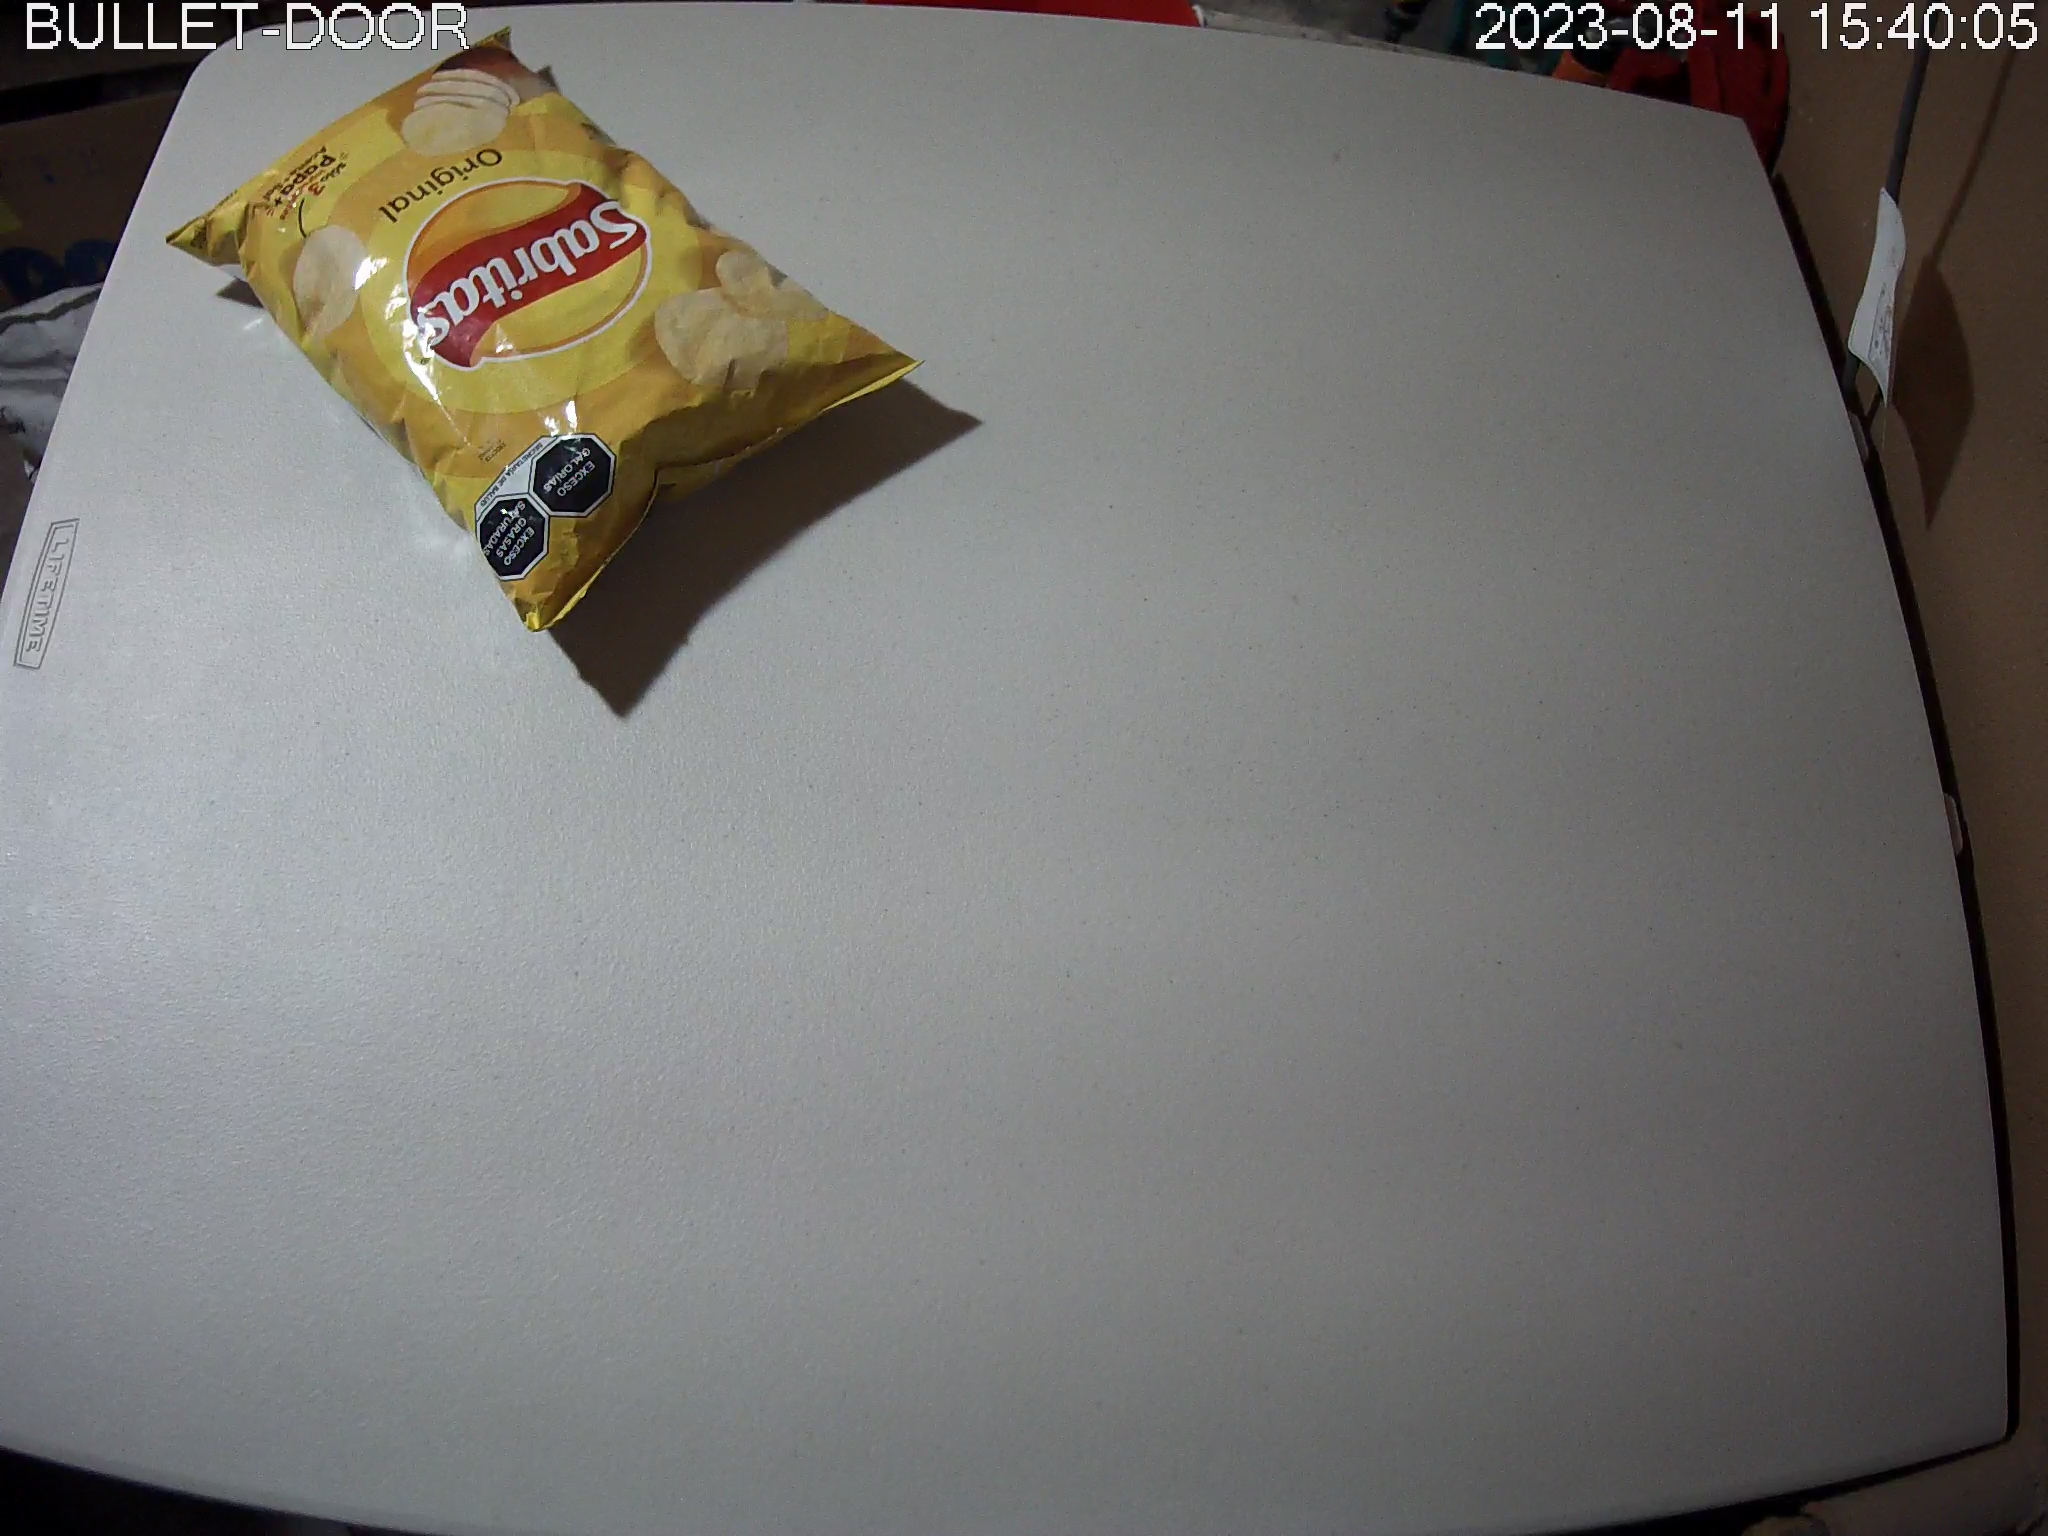Sabritas_160_F: (164, 23, 927, 632)
